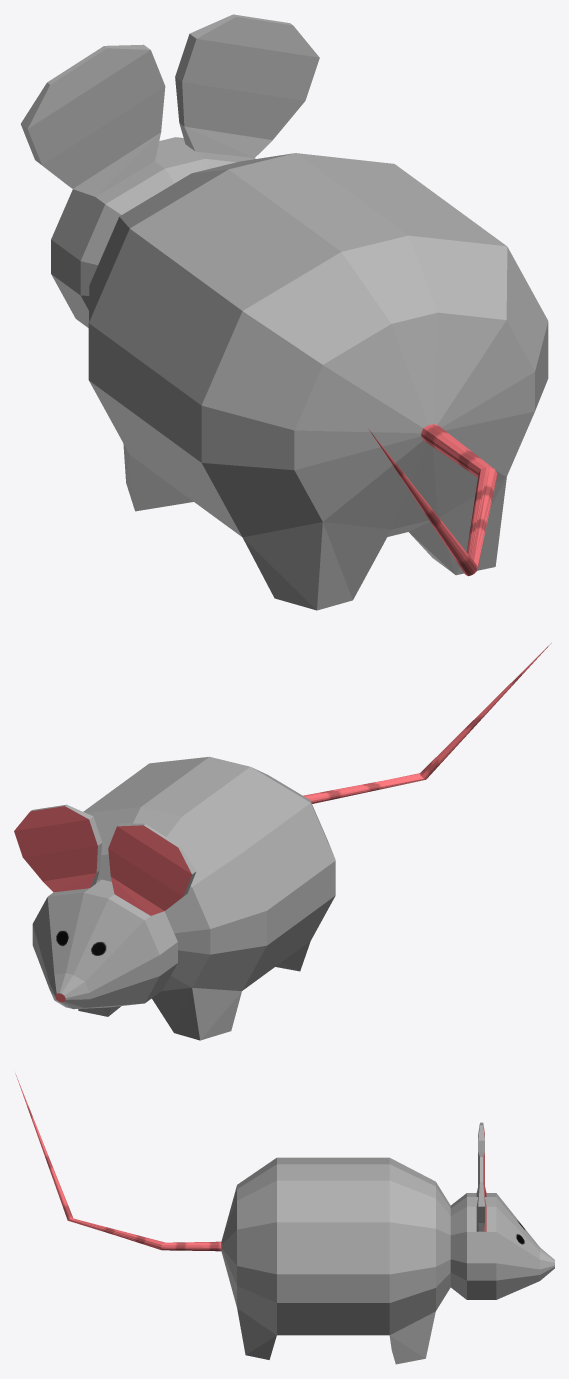
The model's file is mouse.obj.
The picture shows the model from 3 angles, top to bottom: view 1: azimuth 30°, elevation 25°; view 2: azimuth 150°, elevation 25°; view 3: azimuth 270°, elevation 25°; orthographic projection. The views are drawn at different scales.
Parts seen in each view (by area): view 1: Cube; view 2: Cube; view 3: Cube.
Boxes of the visible parts, <box> form: Cube: <box>21,14,548,610</box>; Cube: <box>14,643,551,1040</box>; Cube: <box>15,1074,554,1364</box>.
Size of the model in its own units: 2.27 by 1.96 by 4.8.
